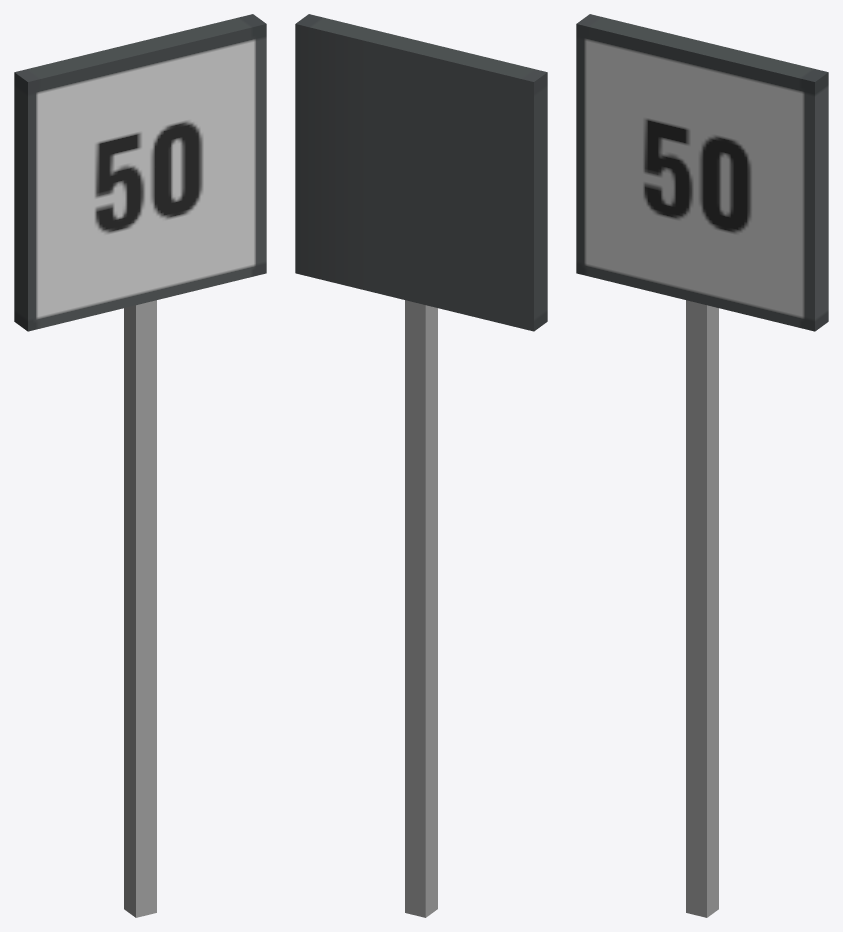
File: props-traffic-sign-speed-limit.glb
The picture shows the model from 3 angles, left to right: view 1: azimuth 30°, elevation 25°; view 2: azimuth 150°, elevation 25°; view 3: azimuth 330°, elevation 25°; orthographic projection.
Visible parts, largest first — view 1: model; view 2: model; view 3: model.
Boxes of the visible parts, x1,y1,x2,y2 form: model: (14, 14, 266, 917); model: (295, 14, 547, 917); model: (576, 14, 828, 917).
Bounding box in the file's own units: 0.6848 × 2.37 × 0.0673.
Materials: 1 (1 with a texture image).
